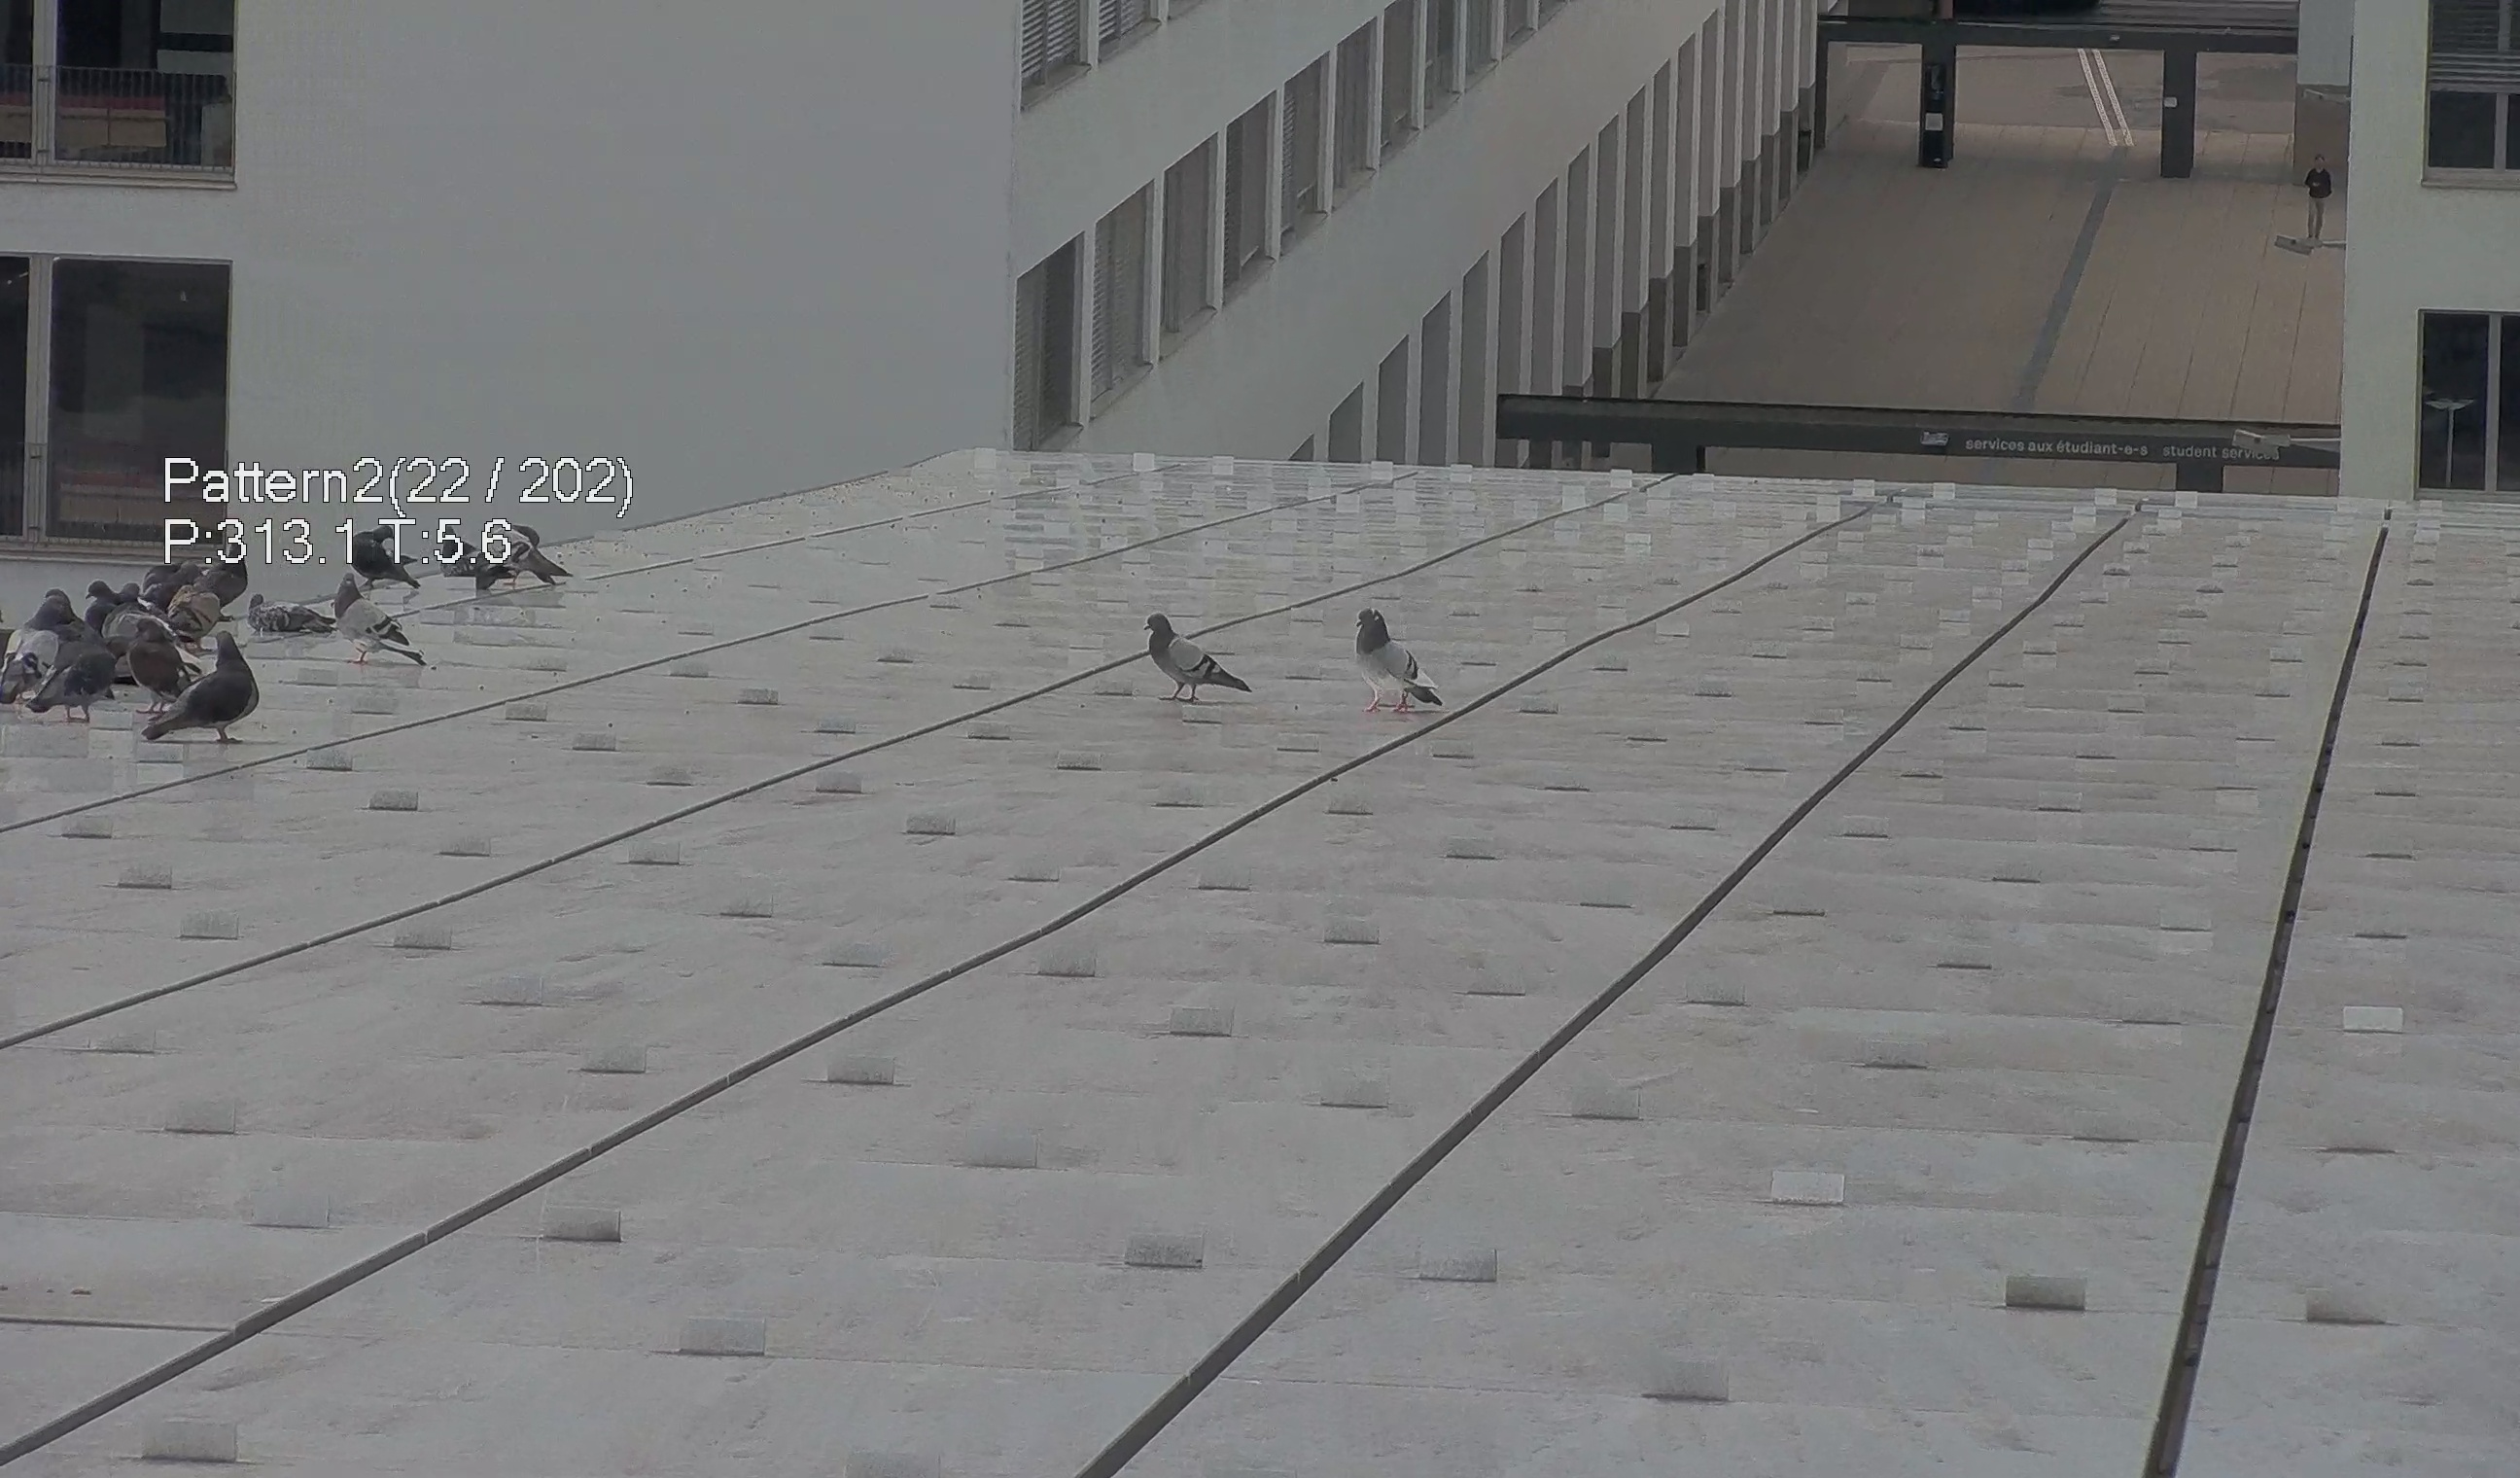Pigeon: (1127, 589, 1263, 713), (141, 628, 269, 750), (1344, 598, 1447, 723), (325, 570, 436, 674), (25, 635, 127, 725), (2, 593, 69, 691), (236, 588, 336, 637), (77, 579, 123, 626)
